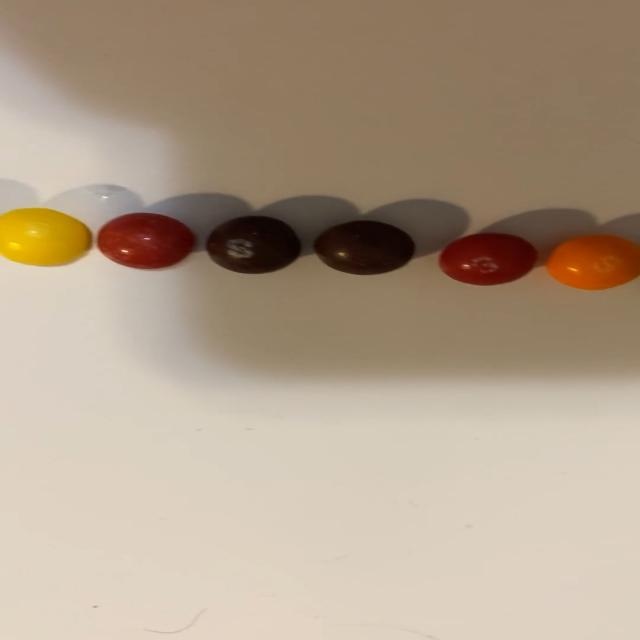smartie: (96, 212, 193, 269), (206, 216, 300, 274), (314, 220, 414, 274), (547, 234, 640, 290), (0, 208, 88, 266), (439, 233, 537, 285)
